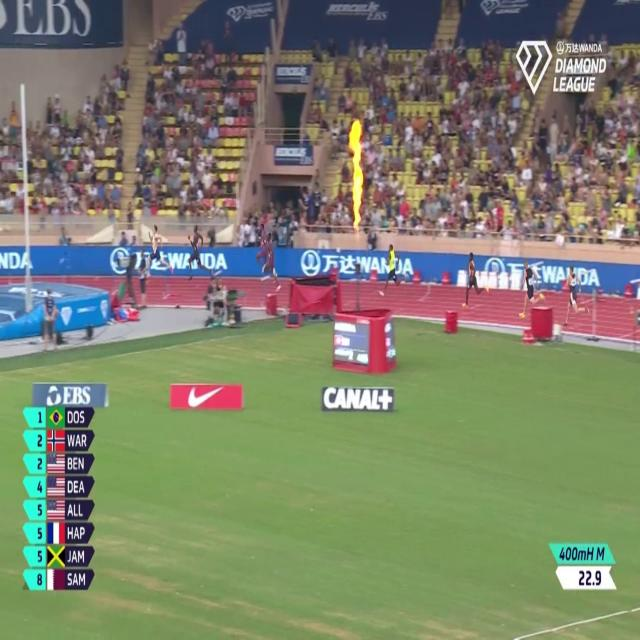athlete: (144, 218, 176, 288), (379, 233, 408, 305), (461, 247, 490, 318), (559, 260, 587, 329), (519, 256, 546, 327), (188, 226, 216, 286), (262, 231, 284, 295), (253, 216, 269, 286)
